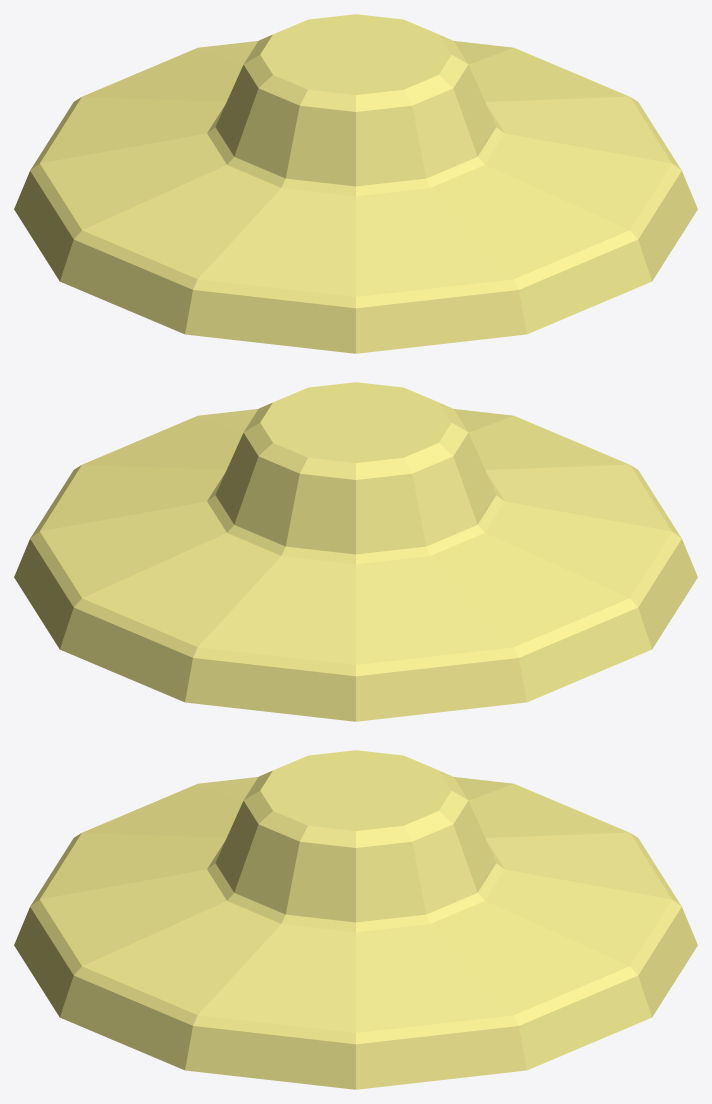
The model's file is Asian_hat_1.fbx.
3 renders of one model, top to bottom at view 1: azimuth 30°, elevation 25°; view 2: azimuth 150°, elevation 25°; view 3: azimuth 270°, elevation 25°, orthographic.
Visible parts, largest first — view 1: Asian_hat_1; view 2: Asian_hat_1; view 3: Asian_hat_1.
Boxes of the visible parts, x1=… form: Asian_hat_1: x1=14, y1=14, x2=697, y2=353; Asian_hat_1: x1=14, y1=382, x2=697, y2=721; Asian_hat_1: x1=14, y1=750, x2=697, y2=1089.
Size of the model in its own units: 83.96 by 83.96 by 21.28.
